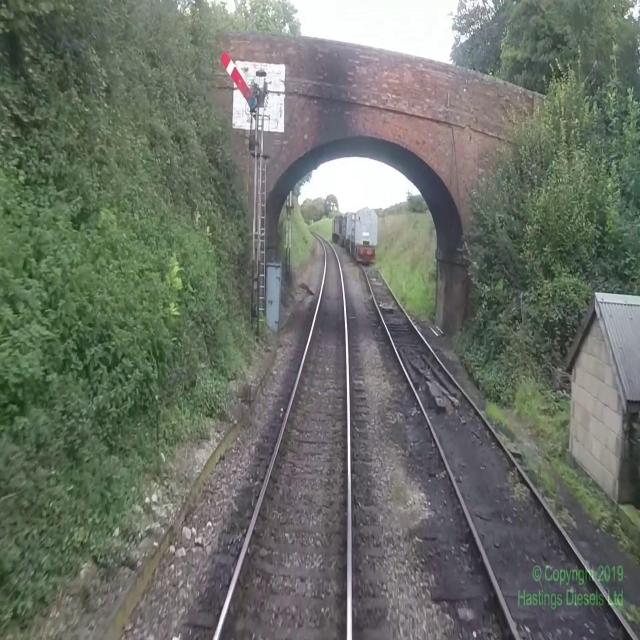rail-track: (362, 264, 631, 639), (218, 232, 347, 639)
